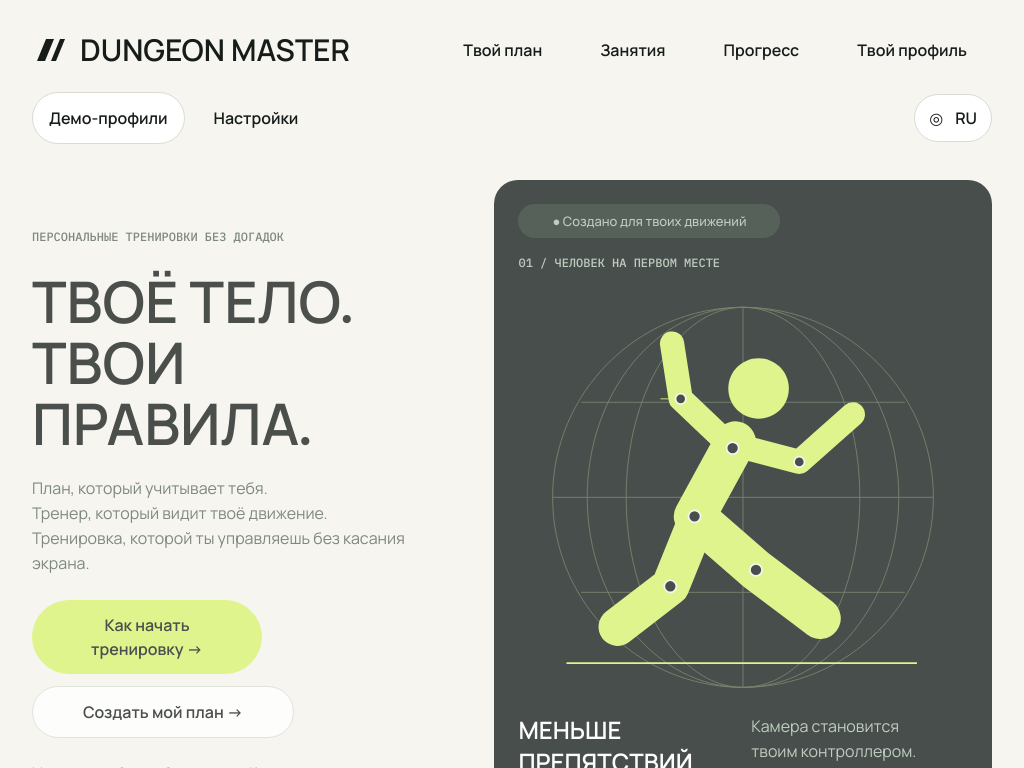
shows the three existing coaches immediately from nav-ready-routines before onboarding
Click the button "Как начать тренировку →" at (147, 637), box 32,600 -> 262,674
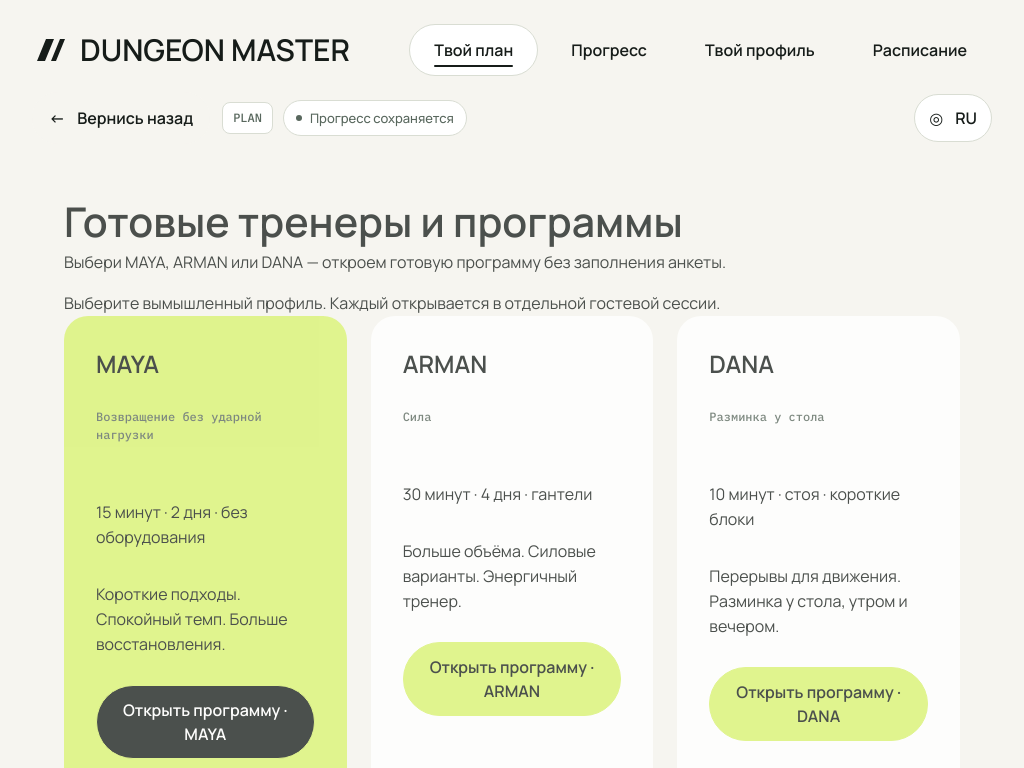
expect the heading with id "ready-programs-title" reads "Готовые тренеры и программы": met, box 64,196 -> 683,245
Click the button "Открыть программу · MAYA" at (205, 722), box 96,685 -> 315,759
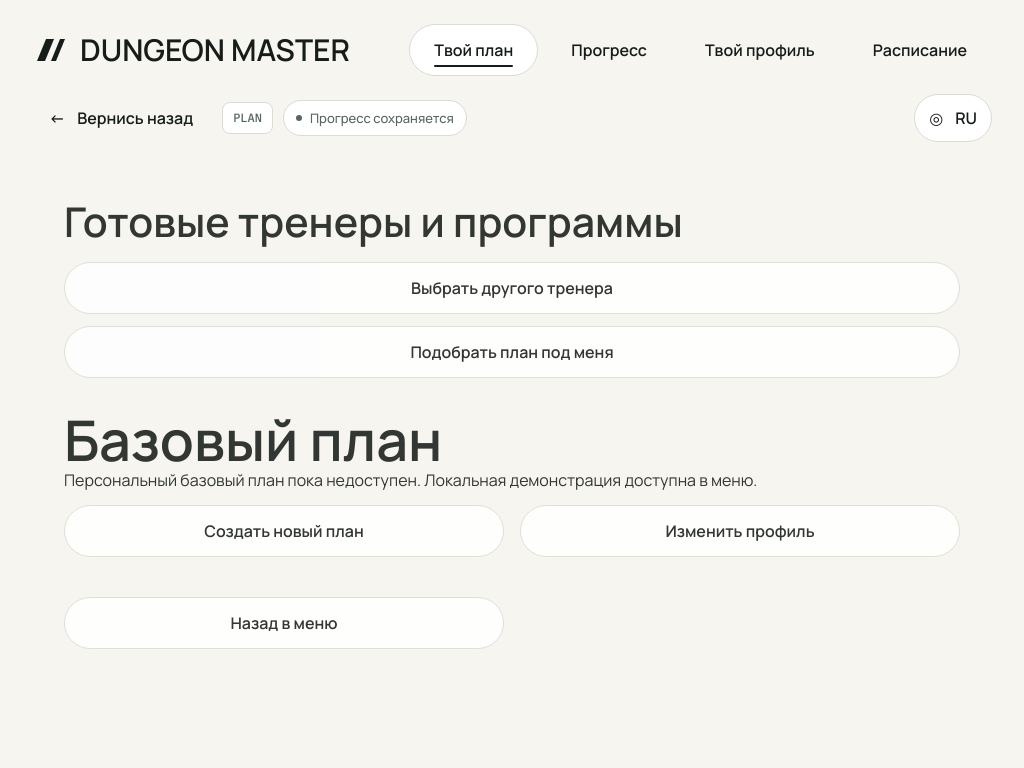
expect the button "Выбрать другого тренера" is shown: met, box 64,262 -> 960,314
